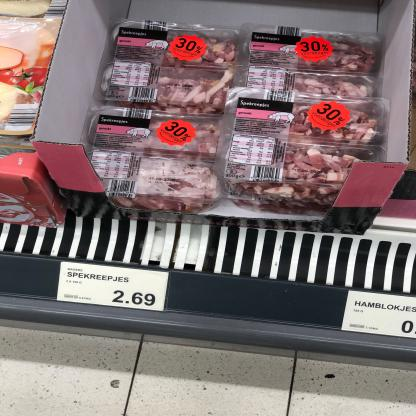prtg: (58, 263, 170, 312), (342, 291, 416, 339)
